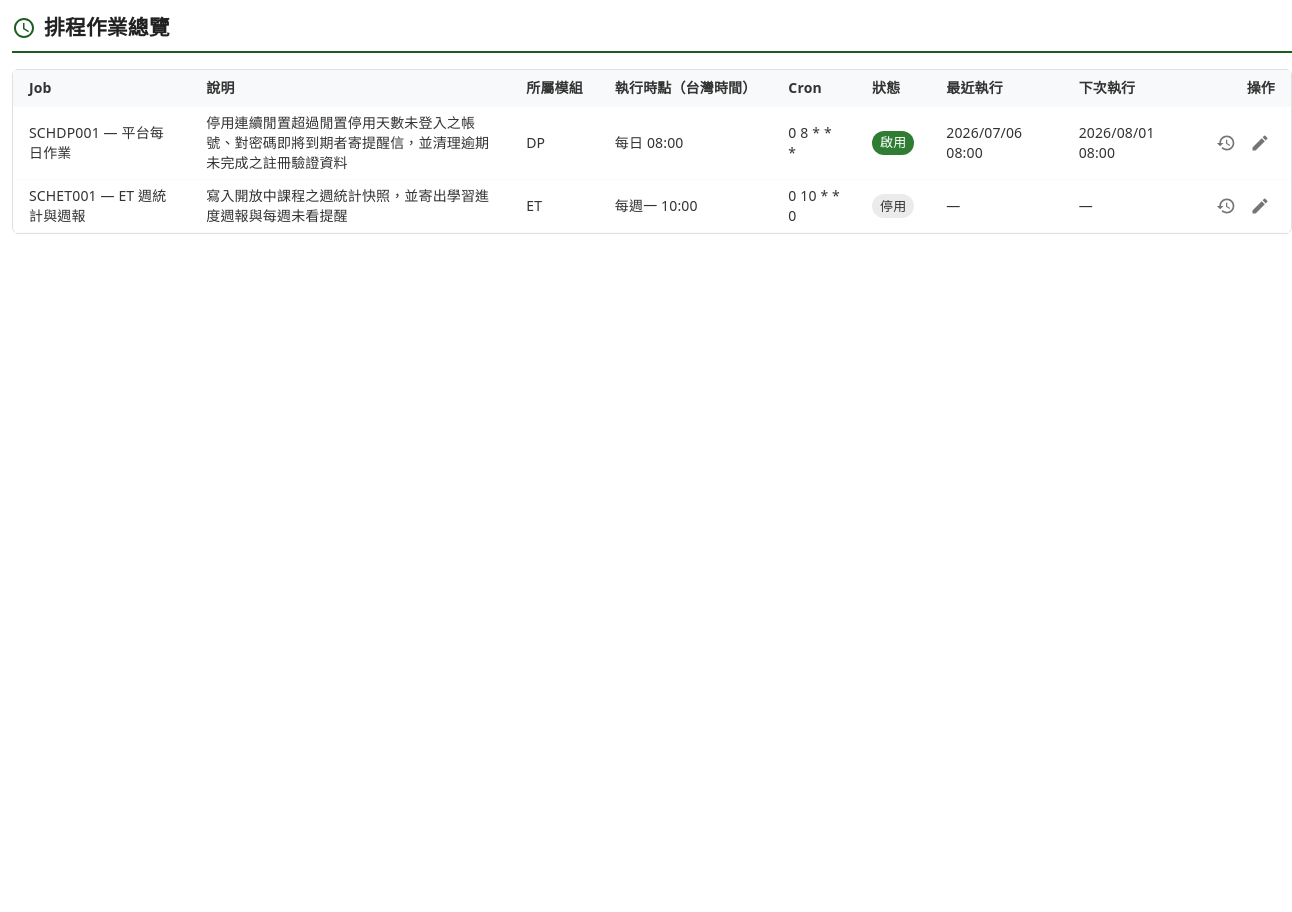
Test: SchedulePage 排程作業總覽（可編輯） › 編輯卡片：作業名稱或 cron 清空 → Zod 擋下、不跳確認
The image size is (1292, 912).
Expected: the text "SCHDP001 — 平台每日作業" is shown, [13,107,190,180]
Step 1. Click the button named "編輯" in the row of "SCHDP001 — 平台每日作業" → (1260, 143), box [1245,128,1275,158]
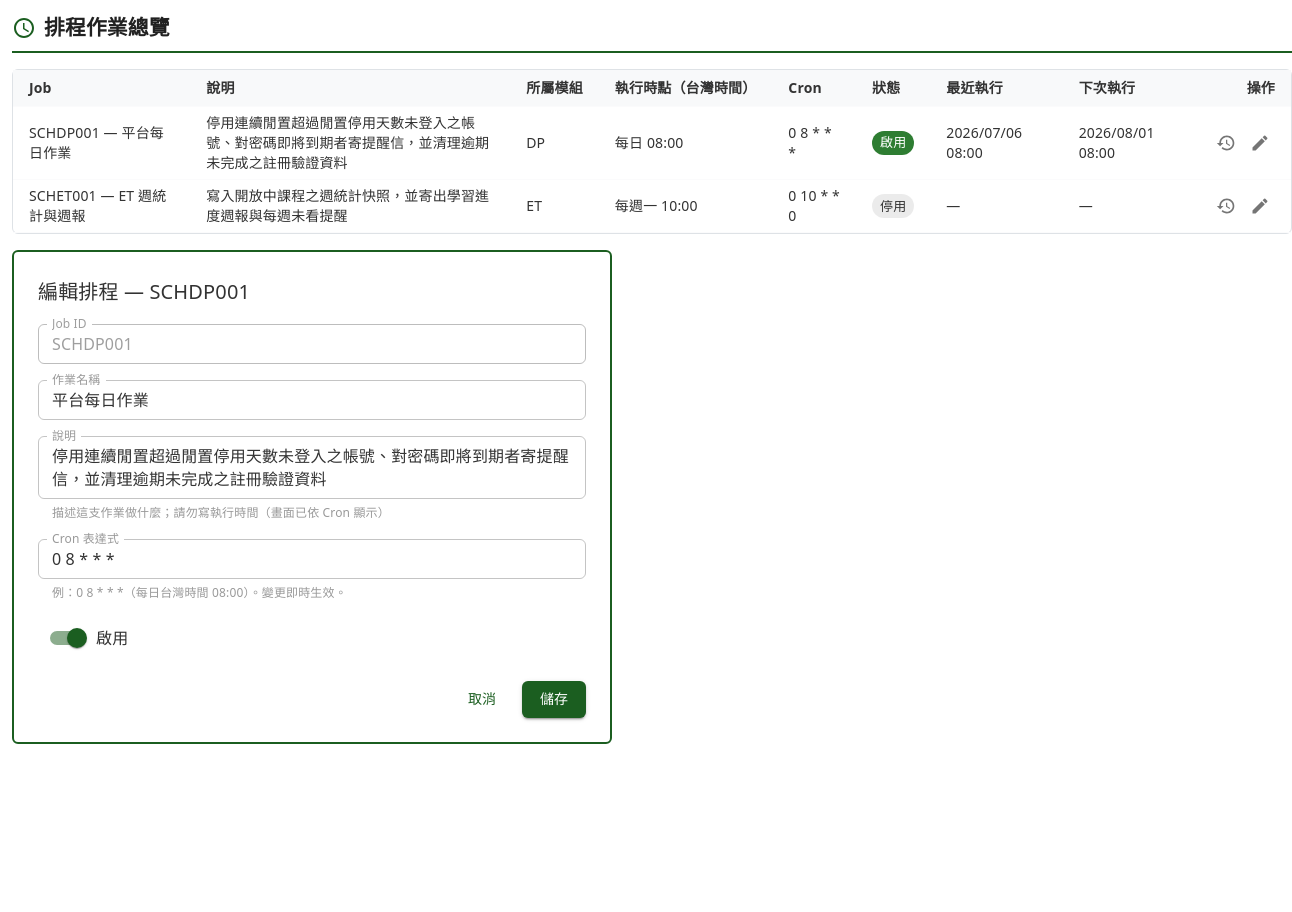
Step 2. Clear the field labelled "作業名稱" → (312, 400), box [38,380,586,420]
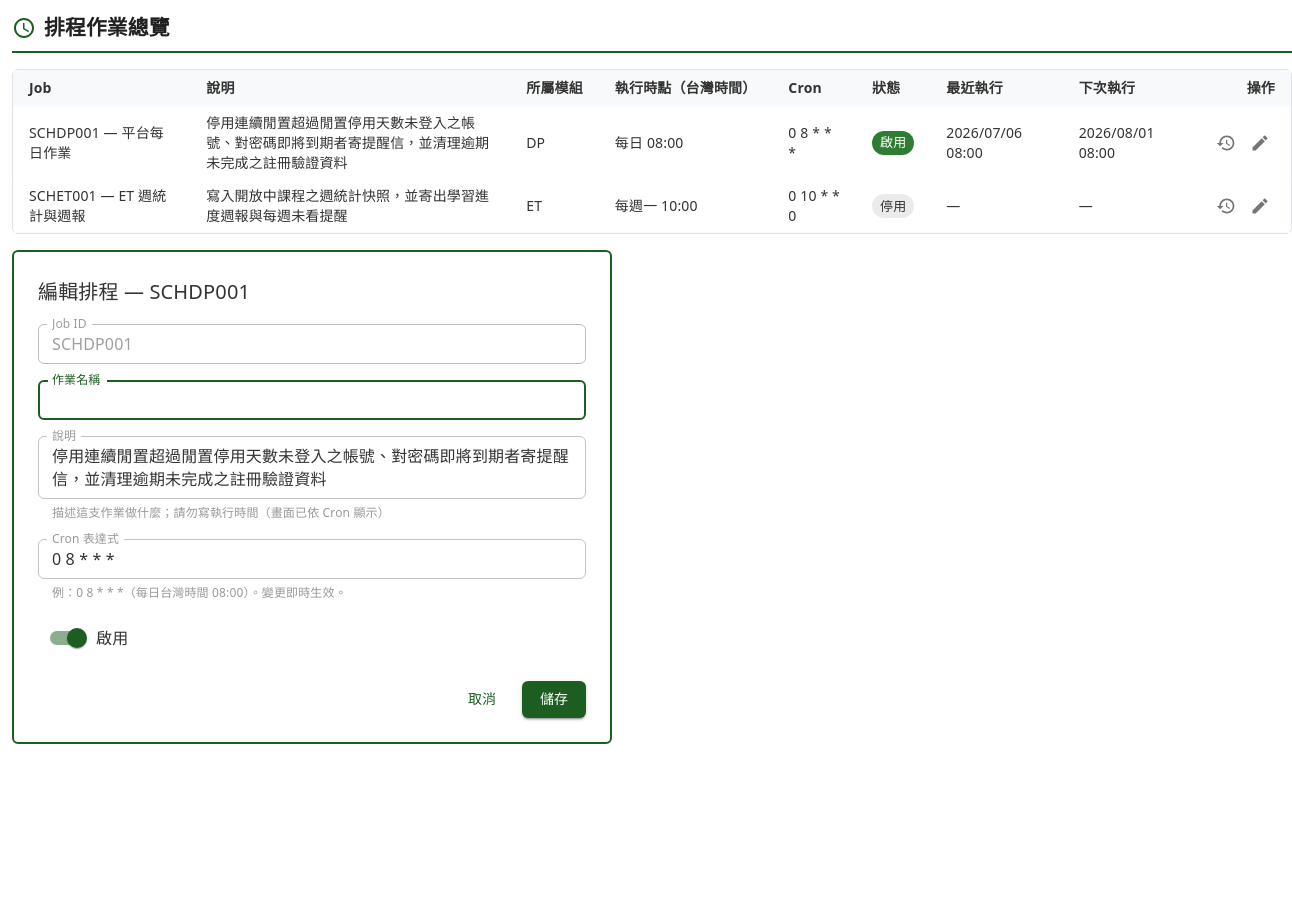
Step 3. Clear the field labelled "Cron 表達式" → (312, 559), box [38,539,586,579]
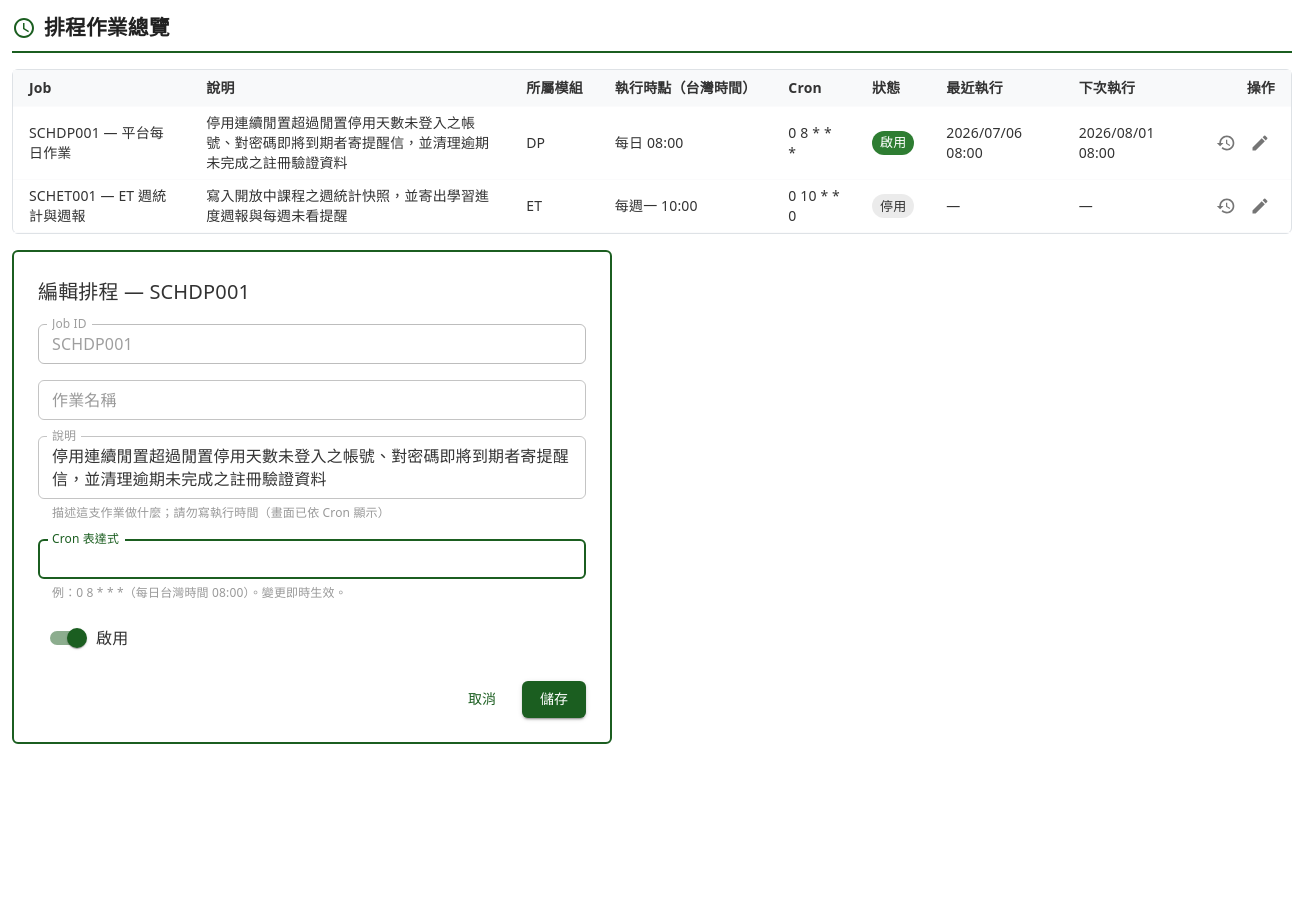
Step 4. Click the button "儲存" → (554, 699), box [522,681,586,718]
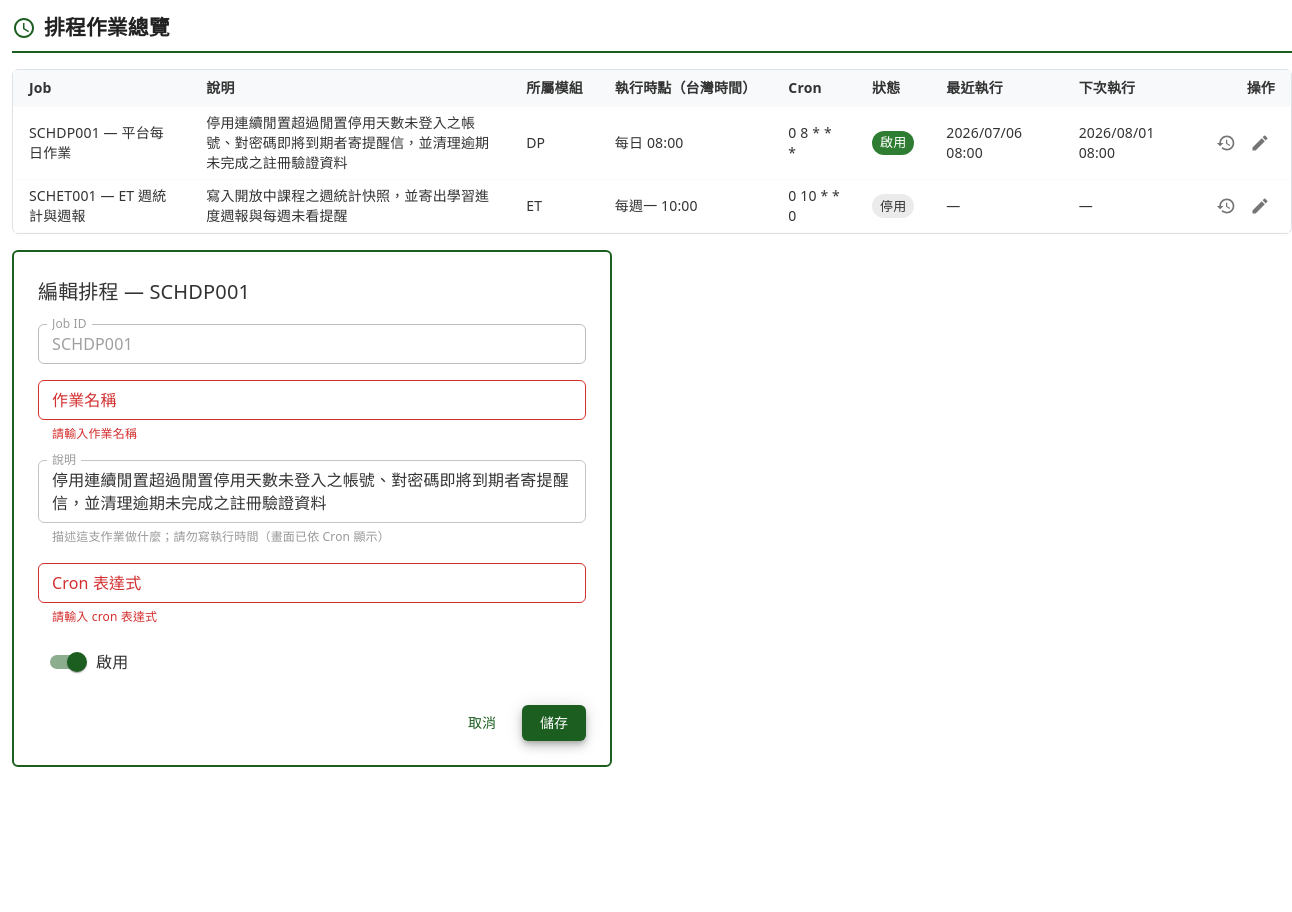
Expected: the text "請輸入作業名稱" is shown, [52,425,137,442]
Expected: the text "請輸入 cron 表達式" is shown, [52,608,157,625]
